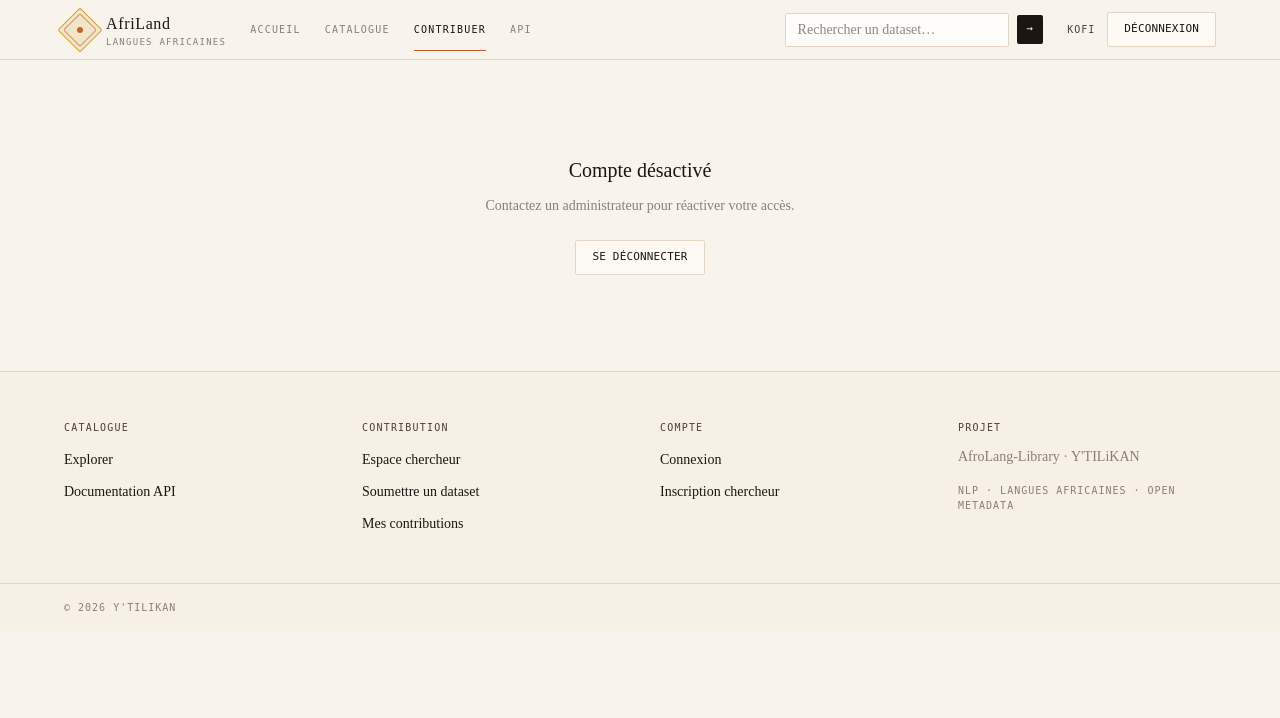
Test: ResearcherGate (Story 3.4) › ferme la session à la déconnexion et referme la zone de contribution
Click the button "Se déconnecter".
click(640, 257)  # box [576,240,704,274]
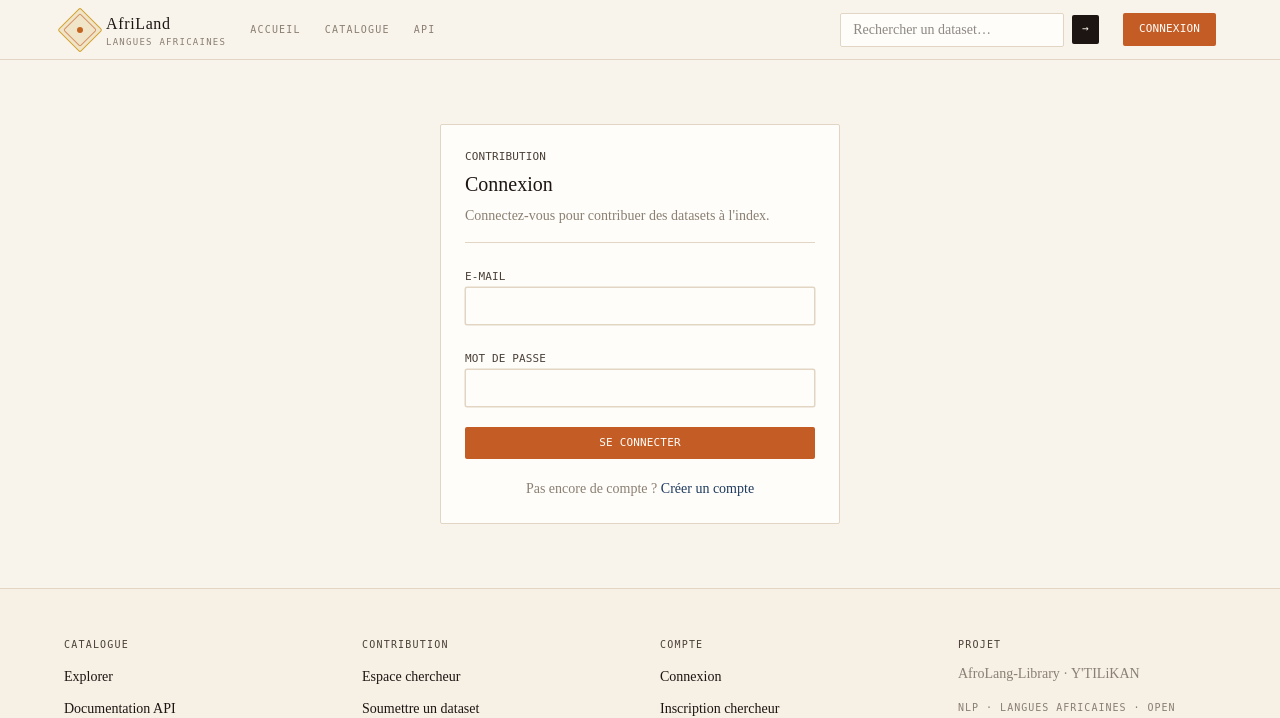
Now the button "Se connecter" is shown, box [465,426,815,459]
